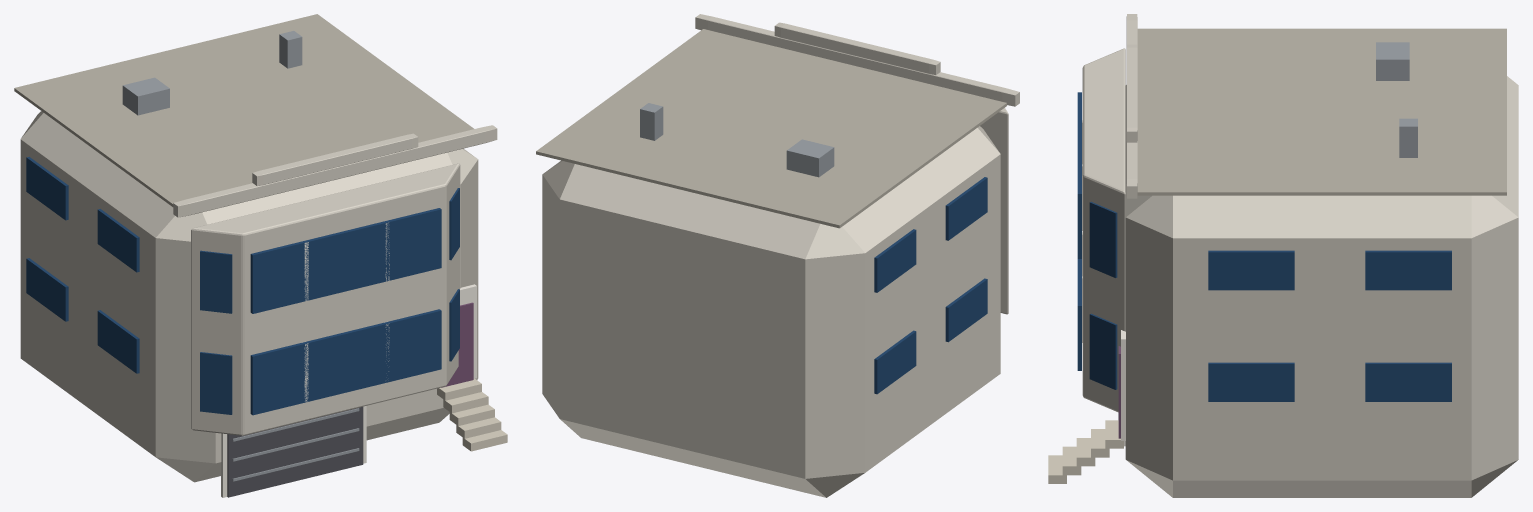
File: rich_w11_stepped.glb
3 views of the same model, side by side, from view 1: azimuth 30°, elevation 25°; view 2: azimuth 150°, elevation 25°; view 3: azimuth 270°, elevation 25° (orthographic). The views are drawn at different scales.
Parts seen in each view (by area): view 1: walls, roofslab, bay, bw, bw.001, gdoor, pp, pp2, bwa.002, bwa, sb.002, sb (+14 smaller); view 2: walls, roofslab, pp, pp2, bay, sb, sb.002, sb.006, sb.004, hvac, pipe; view 3: walls, roofslab, bay, sb.005, sb.007, sb.001, sb.003, bwa.001, bwa.003, hvac, pp2, pp (+4 smaller).
Boxes of the visible parts, <box> form: walls: <box>20,111,478,482</box>; roofslab: <box>14,14,473,206</box>; bay: <box>191,163,460,435</box>; bw: <box>250,309,441,415</box>; bw.001: <box>250,208,441,313</box>; gdoor: <box>227,406,363,497</box>; pp: <box>173,125,497,217</box>; pp2: <box>252,133,418,186</box>; bwa.002: <box>200,250,232,313</box>; bwa: <box>200,352,232,414</box>; sb.002: <box>26,258,68,321</box>; sb: <box>97,310,139,373</box>; walls: <box>542,126,1000,497</box>; roofslab: <box>536,29,1006,228</box>; pp: <box>695,14,1019,106</box>; pp2: <box>774,22,940,74</box>; bay: <box>980,108,1008,314</box>; sb: <box>945,278,987,342</box>; sb.002: <box>874,330,916,394</box>; sb.006: <box>874,229,916,292</box>; sb.004: <box>945,177,987,240</box>; hvac: <box>786,139,834,177</box>; pipe: <box>640,103,663,140</box>; walls: <box>1125,76,1518,497</box>; roofslab: <box>1137,28,1506,195</box>; bay: <box>1082,48,1125,412</box>; sb.005: <box>1208,250,1294,290</box>; sb.007: <box>1365,250,1451,290</box>; sb.001: <box>1208,362,1294,401</box>; sb.003: <box>1365,362,1451,401</box>; bwa.001: <box>1089,313,1117,389</box>; bwa.003: <box>1089,201,1117,277</box>; hvac: <box>1376,42,1409,80</box>; pp2: <box>1126,44,1137,142</box>; pp: <box>1126,14,1137,198</box>.
Size of the model in its own units: 11.2 by 10.4 by 12.57.
